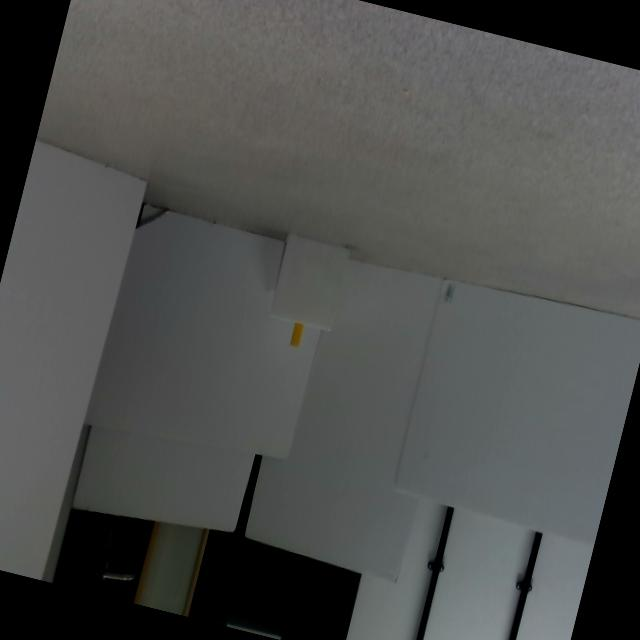yellow_cylinder: (288, 321, 304, 348)
